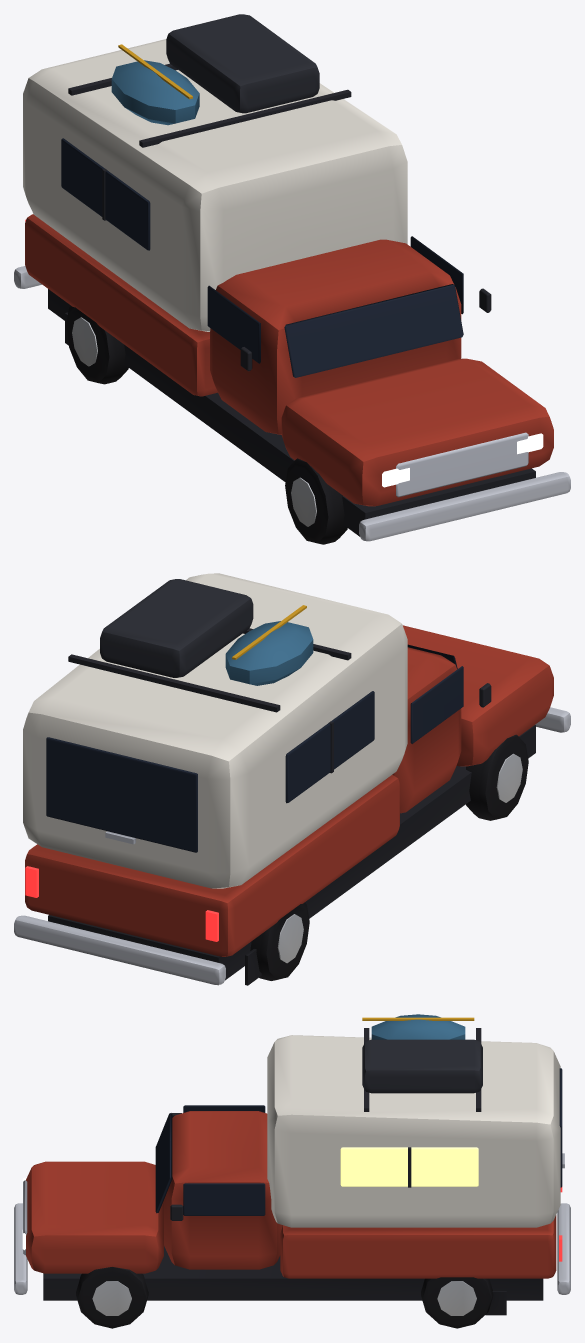
The model's file is camper.glb.
3 renders of one model, top to bottom at view 1: azimuth 30°, elevation 25°; view 2: azimuth 150°, elevation 25°; view 3: azimuth 270°, elevation 25°, orthographic. The views are drawn at different scales.
Parts seen in each view (by area): view 1: shell, hood, cab, bed, cargo, screen, frame, bumper_1, swin_0, grille, tarp, tyre_1_0 (+6 smaller); view 2: shell, bed, hatch, cargo, hood, frame, cab, bumper_0, swin_0, tarp, tyre_1_0, side_glass_0 (+5 smaller); view 3: shell, hood, bed, cab, frame, cargo, swin_1, side_glass_1, tyre_1_1, tyre_0_1, tarp, screen (+8 smaller).
Boxes of the visible parts, bbox=[...] form: shell: bbox=[23, 39, 407, 331]; hood: bbox=[281, 358, 553, 506]; cab: bbox=[210, 239, 461, 434]; bed: bbox=[25, 214, 217, 396]; cargo: bbox=[166, 14, 319, 113]; screen: bbox=[284, 284, 463, 377]; frame: bbox=[48, 289, 535, 536]; bumper_1: bbox=[359, 472, 570, 541]; swin_0: bbox=[61, 138, 150, 250]; grille: bbox=[396, 432, 528, 497]; tarp: bbox=[111, 60, 199, 125]; tyre_1_0: bbox=[285, 458, 347, 544]; shell: bbox=[23, 573, 407, 888]; bed: bbox=[25, 775, 399, 956]; hatch: bbox=[46, 737, 197, 852]; cargo: bbox=[100, 579, 253, 677]; hood: bbox=[403, 625, 553, 766]; frame: bbox=[48, 725, 535, 985]; cab: bbox=[392, 647, 461, 813]; bumper_0: bbox=[14, 915, 225, 984]; swin_0: bbox=[285, 691, 374, 803]; tarp: bbox=[225, 621, 313, 685]; tyre_1_0: bbox=[466, 734, 528, 820]; side_glass_0: bbox=[410, 666, 463, 743]; shell: bbox=[267, 1035, 560, 1227]; hood: bbox=[26, 1161, 163, 1273]; bed: bbox=[280, 1215, 556, 1278]; cab: bbox=[164, 1111, 282, 1269]; frame: bbox=[43, 1246, 543, 1300]; cargo: bbox=[362, 1039, 482, 1093]; swin_1: bbox=[340, 1147, 478, 1186]; side_glass_1: bbox=[183, 1183, 265, 1215]; tyre_1_1: bbox=[76, 1267, 148, 1328]; tyre_0_1: bbox=[421, 1277, 493, 1328]; tarp: bbox=[371, 1014, 465, 1039]; screen: bbox=[155, 1113, 172, 1213].
Bounding box in the file's own units: 2.58 × 3.22 × 6.46.
